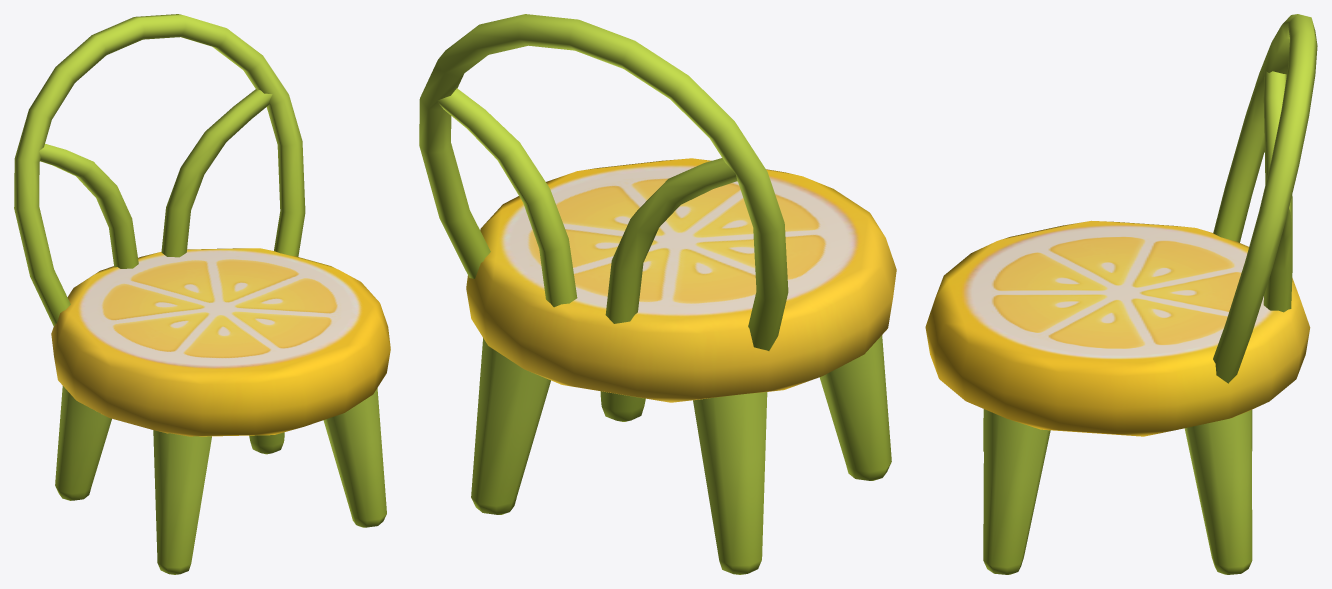
File: Homestead_nm_4.fbx
The picture shows the model from 3 angles, left to right: view 1: azimuth 30°, elevation 25°; view 2: azimuth 150°, elevation 25°; view 3: azimuth 270°, elevation 25°; orthographic projection. The views are drawn at different scales.
Visible parts, largest first — view 1: Homestead_nm_4; view 2: Homestead_nm_4; view 3: Homestead_nm_4.
Part boxes in pixels (x1=…): Homestead_nm_4: x1=14, y1=14, x2=390, y2=574; Homestead_nm_4: x1=419, y1=14, x2=896, y2=574; Homestead_nm_4: x1=925, y1=14, x2=1317, y2=574.
Bounding box in the file's own units: 74.07 × 104 × 75.47.
